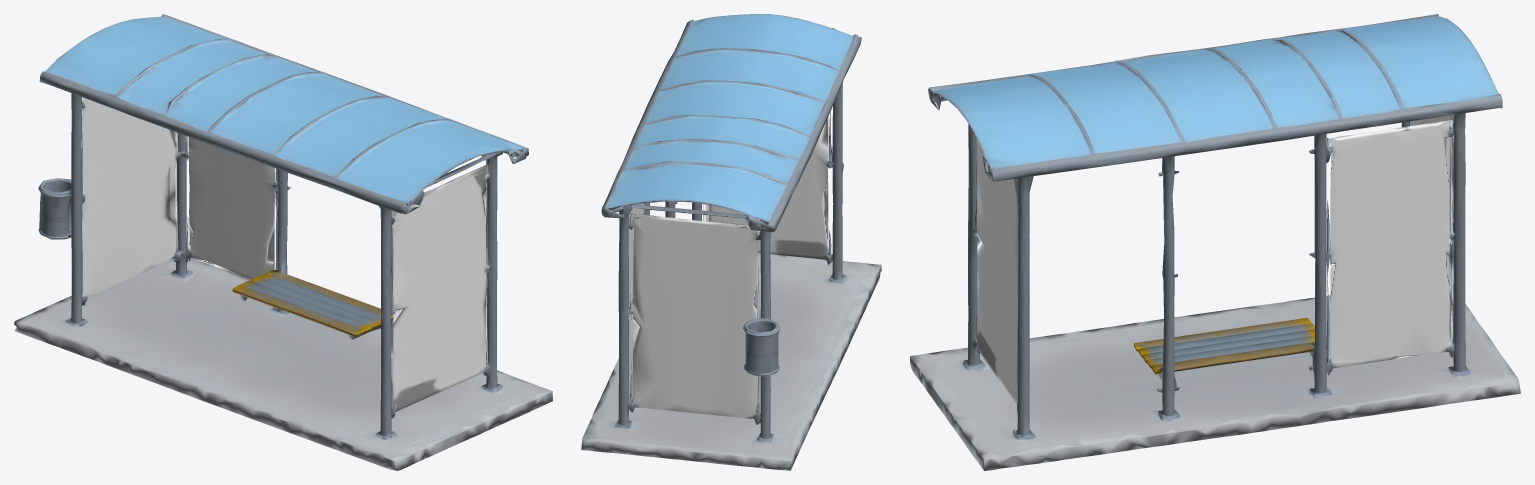
File: stanica.glb
The picture shows the model from 3 angles, left to right: view 1: azimuth 30°, elevation 25°; view 2: azimuth 150°, elevation 25°; view 3: azimuth 270°, elevation 25°; orthographic projection. The views are drawn at different scales.
Parts seen in each view (by area): view 1: tripo_node_d69845c0-c7a9-42a5-9f6a-8671a6c38a1a; view 2: tripo_node_d69845c0-c7a9-42a5-9f6a-8671a6c38a1a; view 3: tripo_node_d69845c0-c7a9-42a5-9f6a-8671a6c38a1a.
Part boxes in pixels (x1,y1,x2,y2): tripo_node_d69845c0-c7a9-42a5-9f6a-8671a6c38a1a: (14,14,552,470); tripo_node_d69845c0-c7a9-42a5-9f6a-8671a6c38a1a: (581,14,881,470); tripo_node_d69845c0-c7a9-42a5-9f6a-8671a6c38a1a: (910,14,1520,470).
Size of the model in its own units: 0.6924 by 0.5433 by 0.9815.
1 material, 1 textured.
